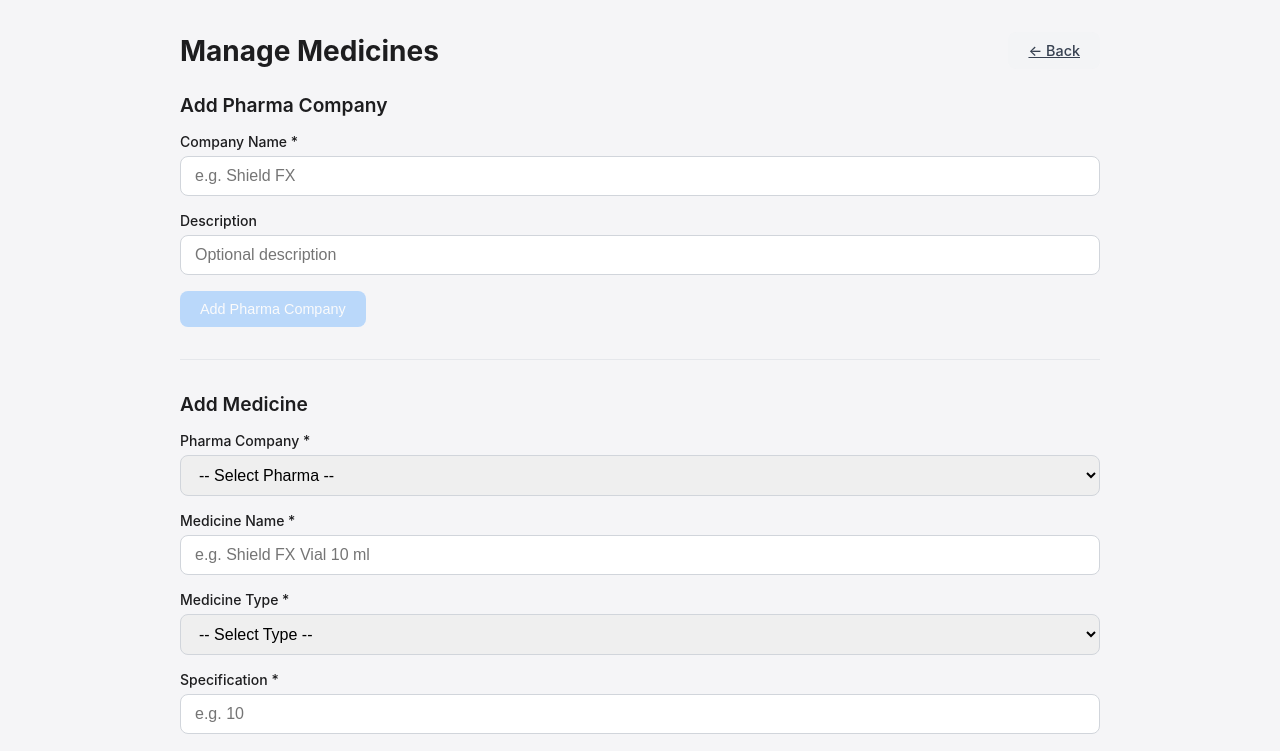
ManageMedicines — add pharma company › submits pharma company and shows success message
In the field labelled "Company Name *": coordinates (640, 176) [180,156,1100,196], type "New Co"
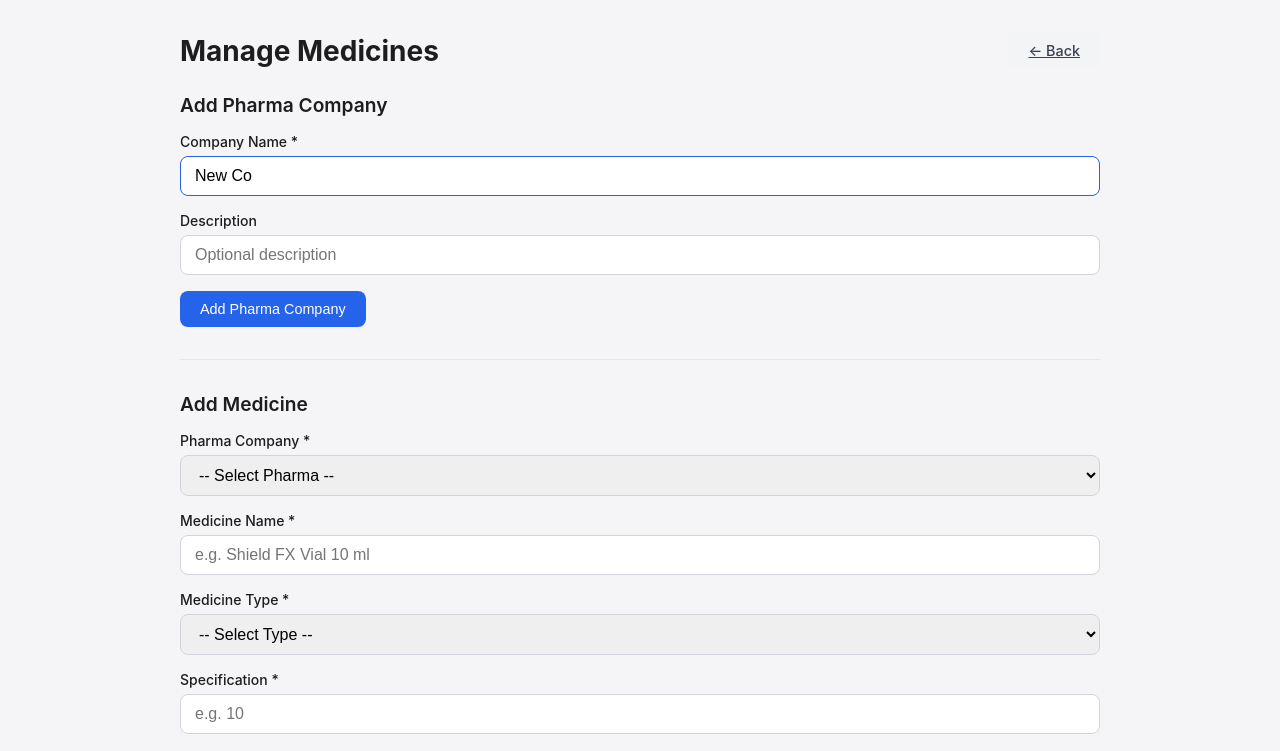
In the field labelled "Description": coordinates (640, 255) [180,235,1100,275], type "A new pharma"
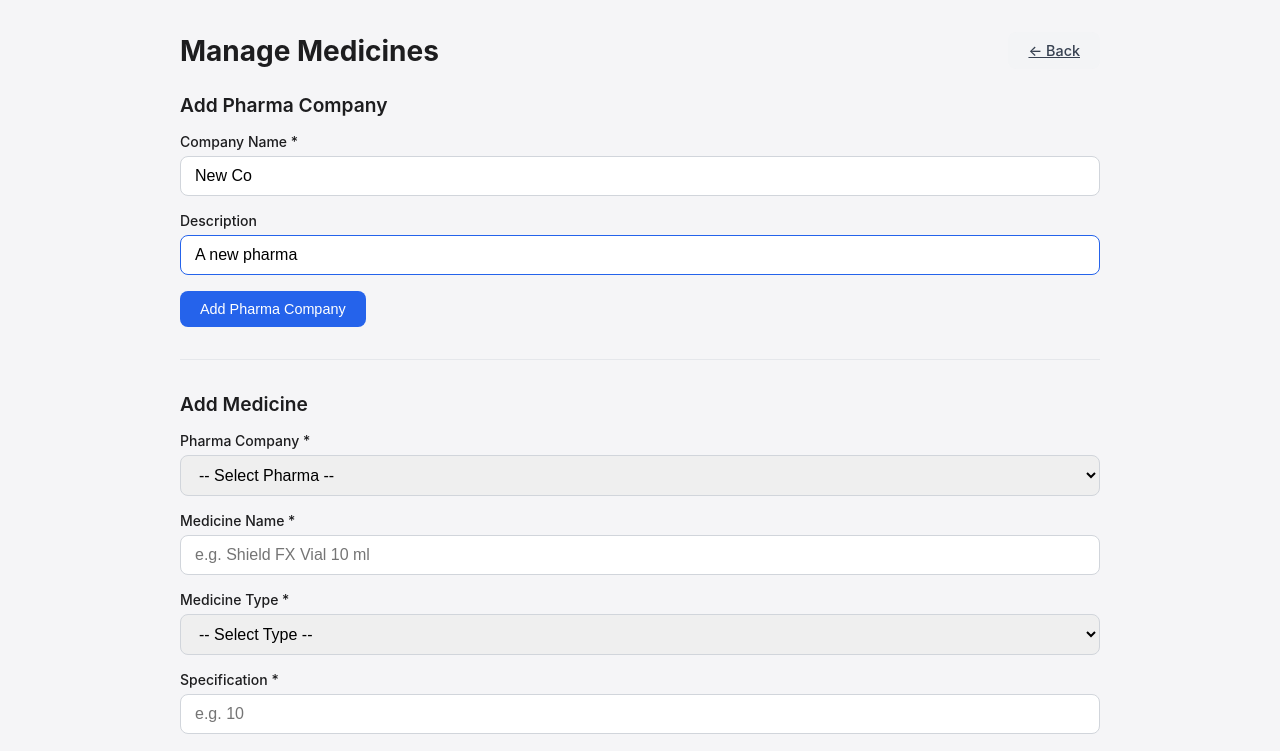
Click the button "Add Pharma Company": coordinates (273, 309) [180,291,366,327]
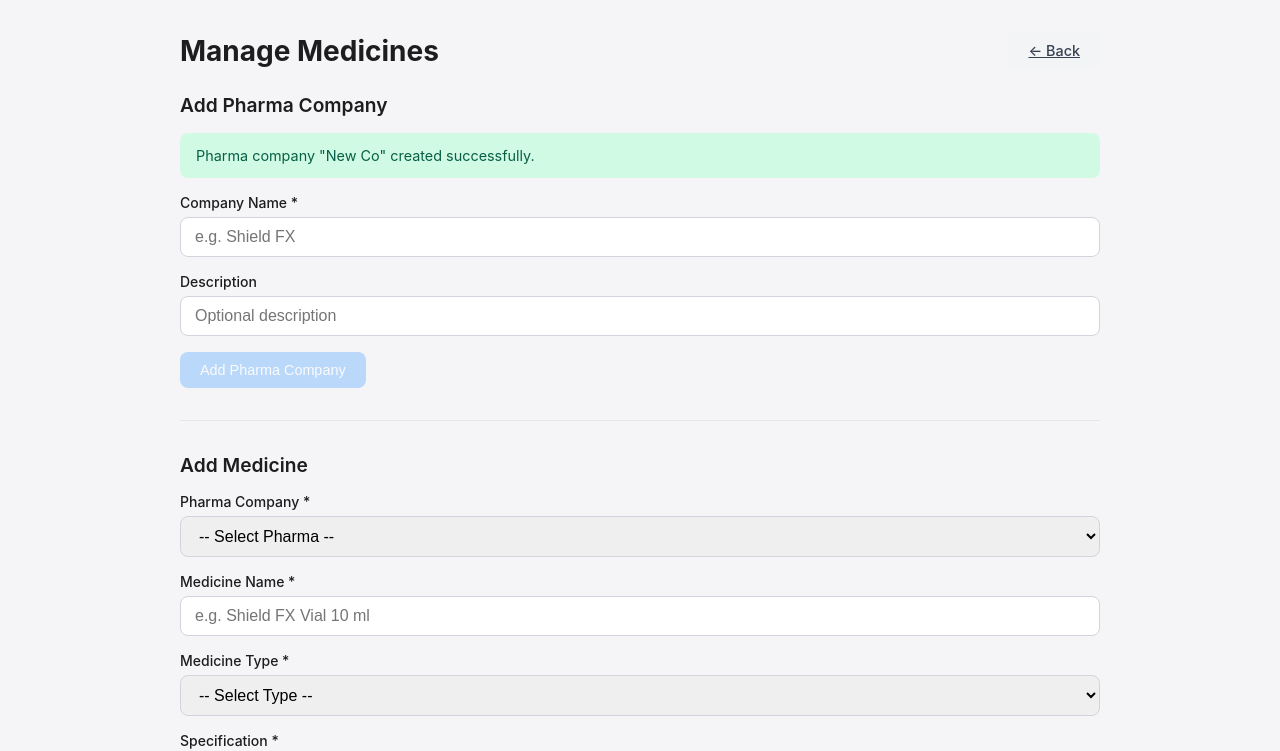
Result: the message reads "Pharma company \"New Co\" created successfully." at [196,147,535,164]
